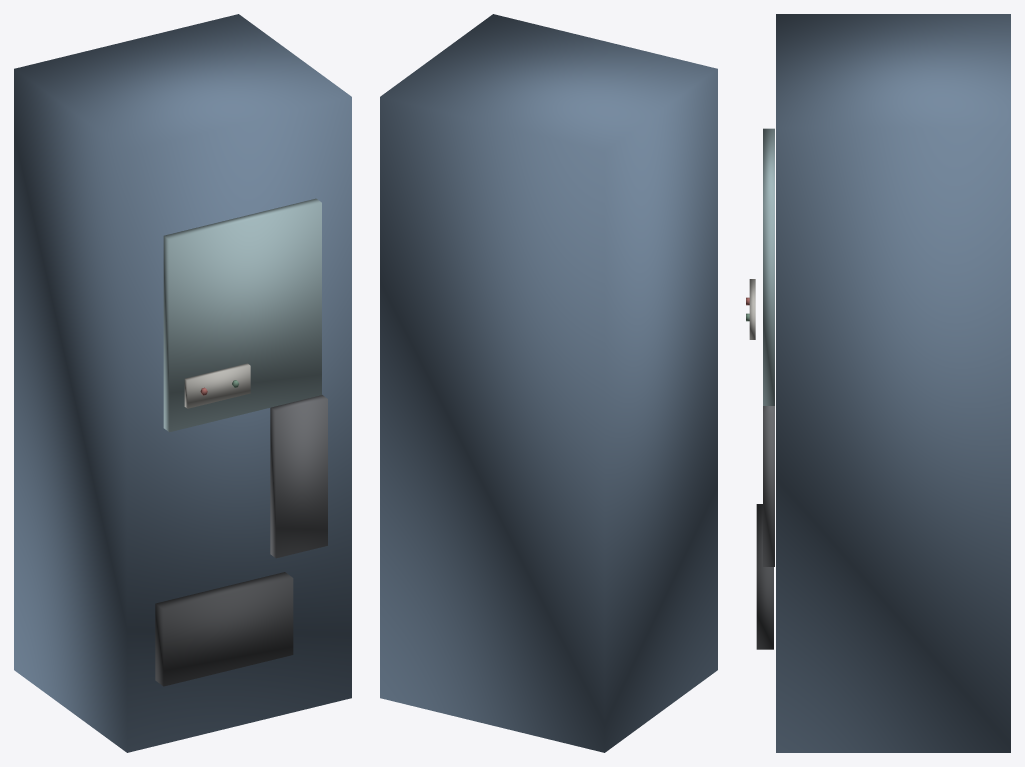
Rendered from drink_vending_machine__tall.glb.
3 views of the same model, side by side, from view 1: azimuth 30°, elevation 25°; view 2: azimuth 150°, elevation 25°; view 3: azimuth 270°, elevation 25° (orthographic). The views are drawn at different scales.
Visible parts, largest first — view 1: world; view 2: world; view 3: world.
Boxes of the visible parts, x1,y1,x2,y2 form: world: (14, 14, 351, 752); world: (380, 14, 717, 752); world: (746, 14, 1010, 752).
Bounding box in the file's own units: 0.78 × 2 × 0.766.
